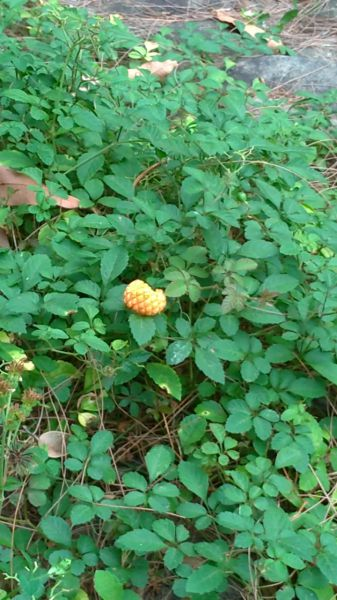eggs: (118, 272, 168, 320)
